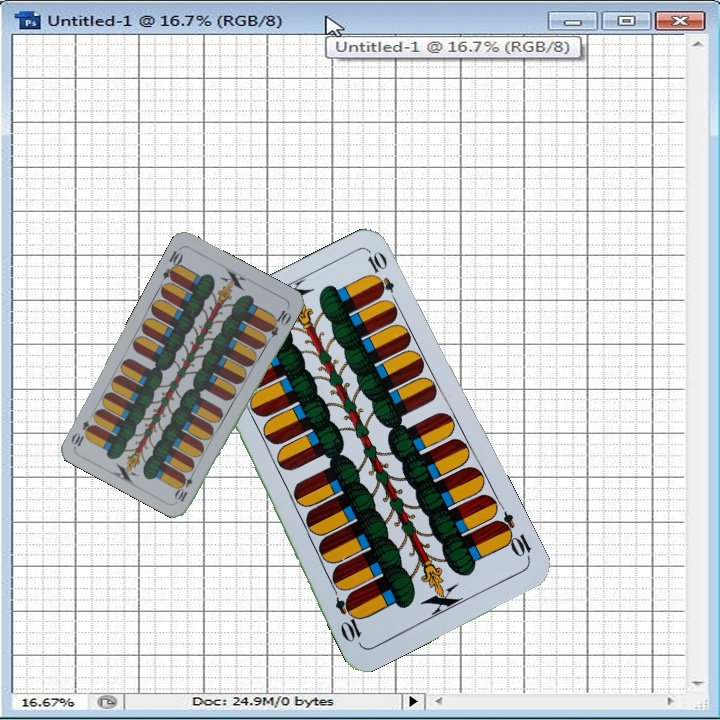E10: (491, 508, 534, 563), (159, 244, 186, 284), (172, 465, 198, 505)
